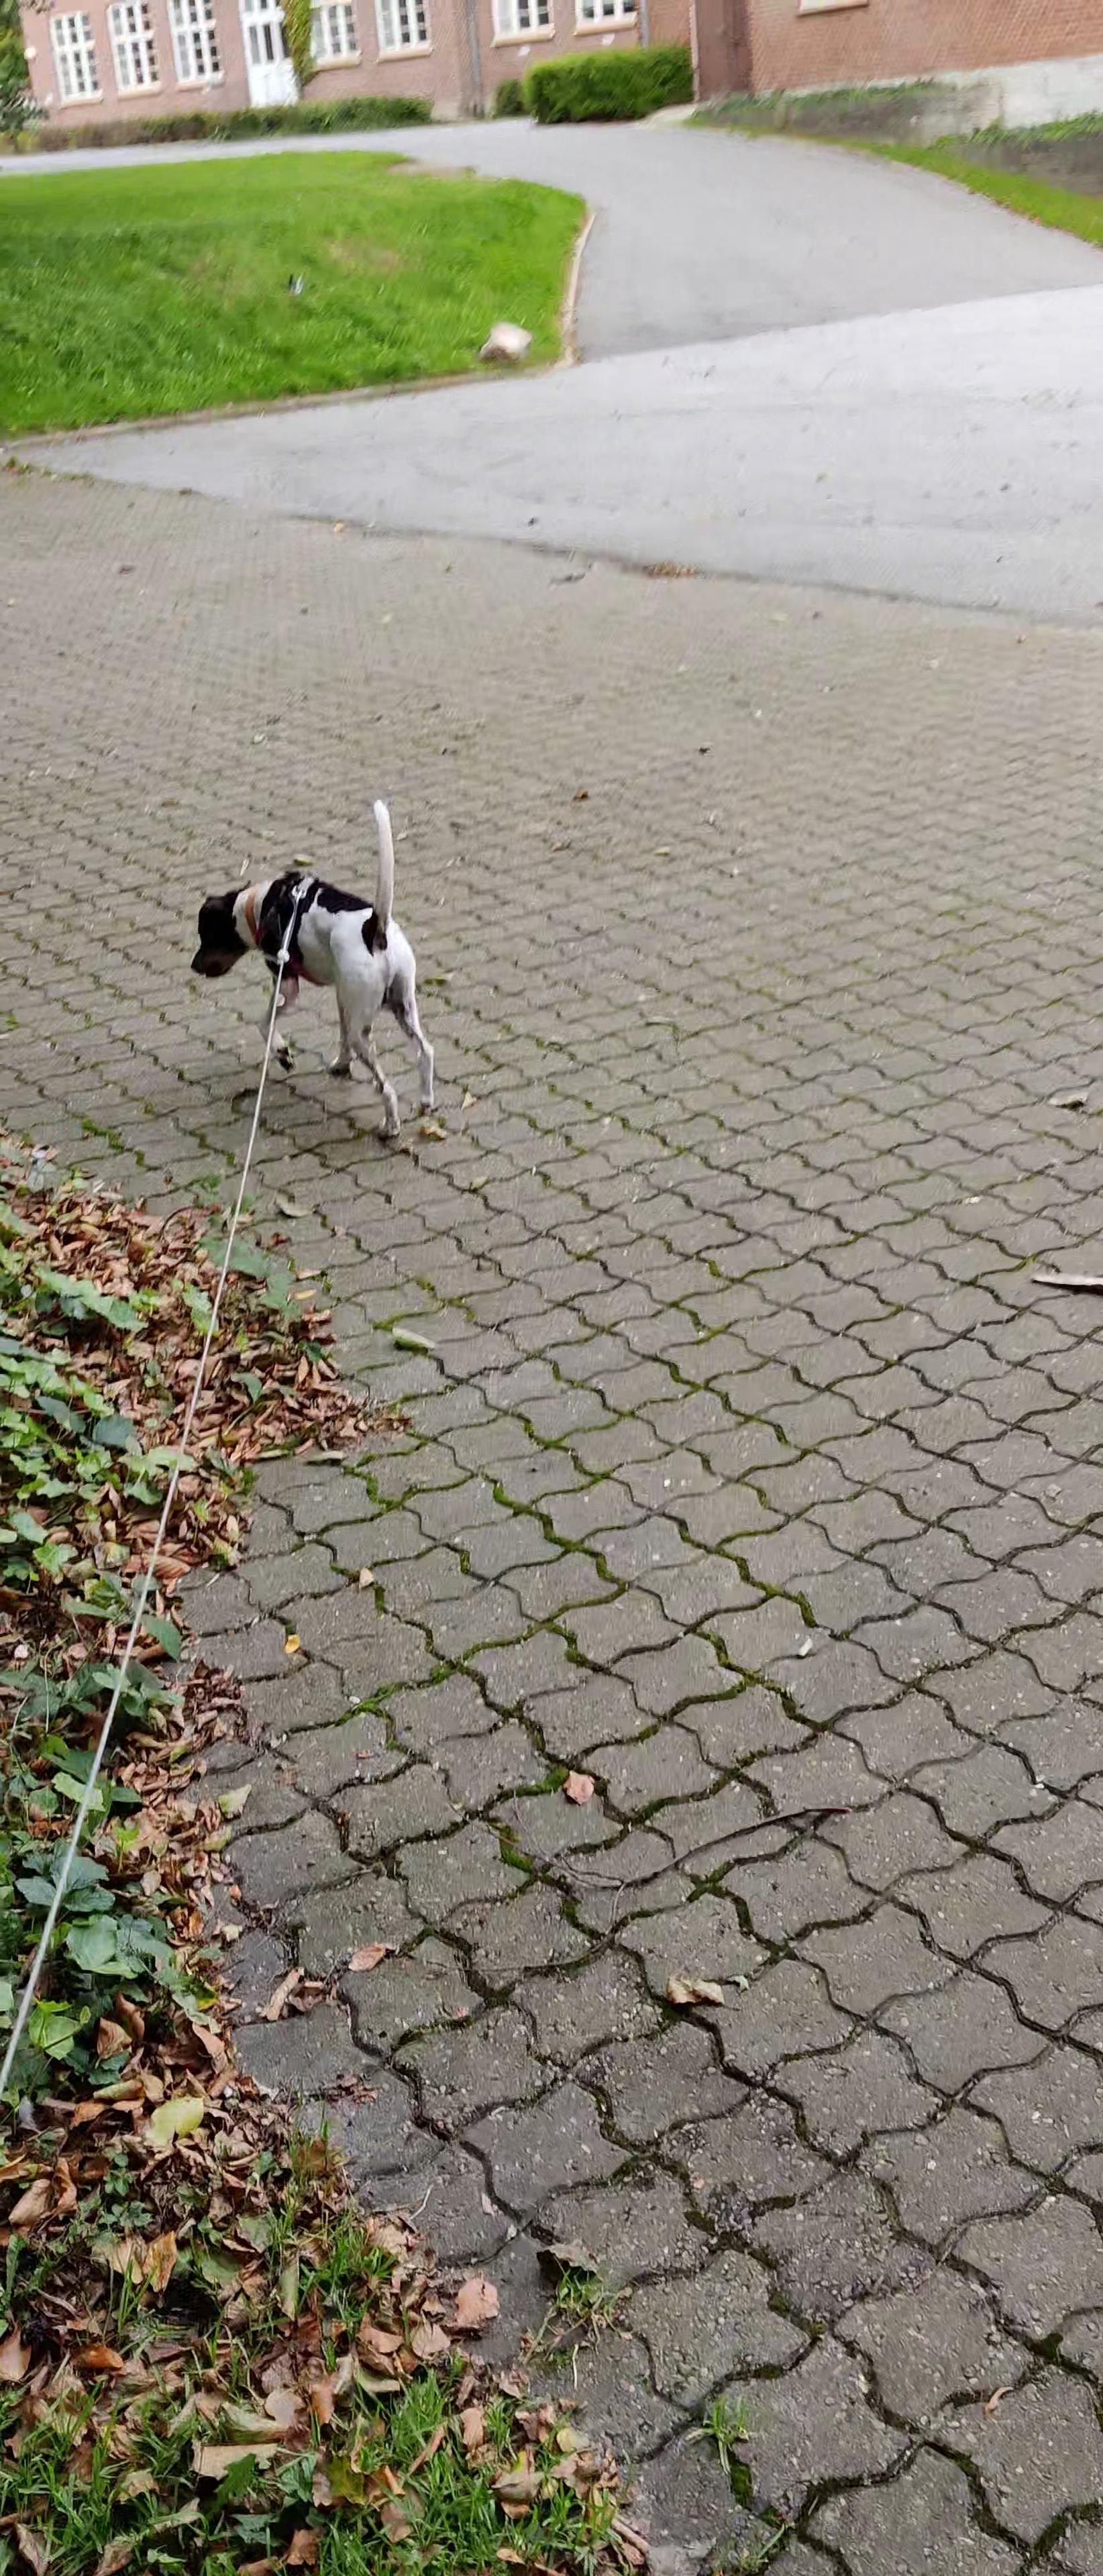Dog: (181, 792, 449, 1152)
